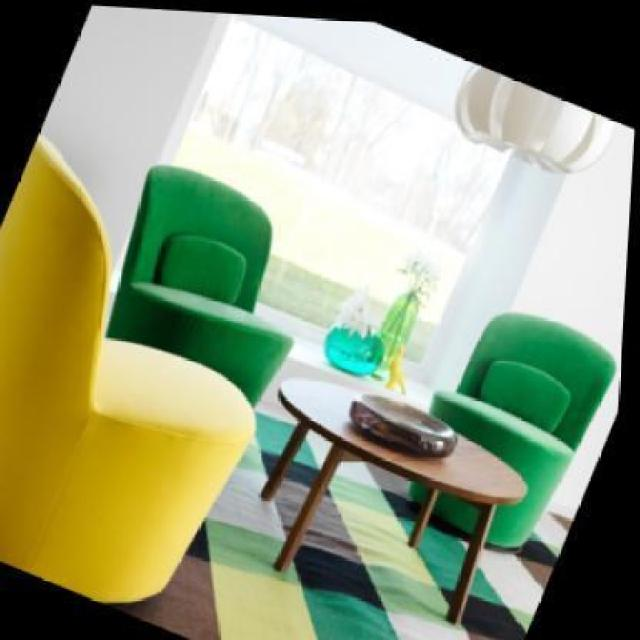tables: (258, 377, 528, 625)
